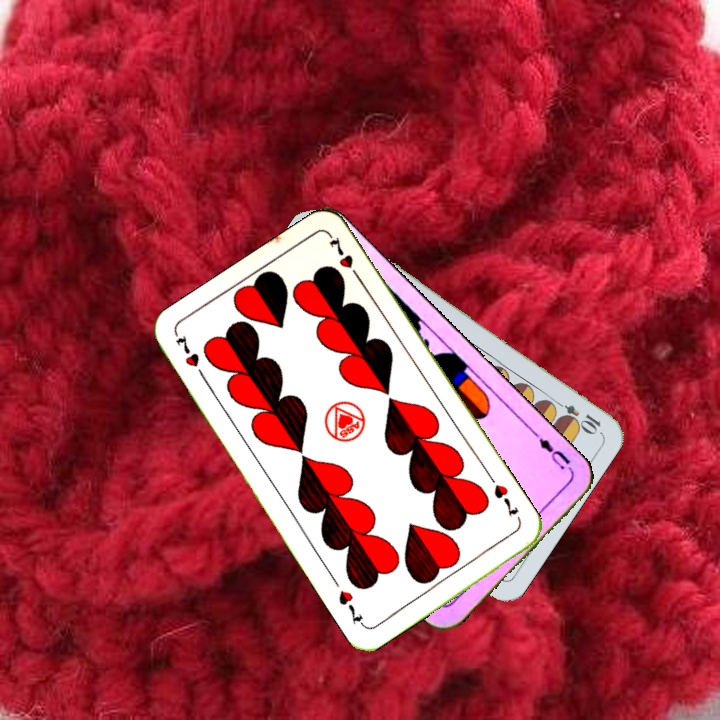E10: (548, 395, 604, 436)
EU: (530, 428, 573, 473)
H7: (171, 331, 209, 384), (489, 480, 521, 519)
